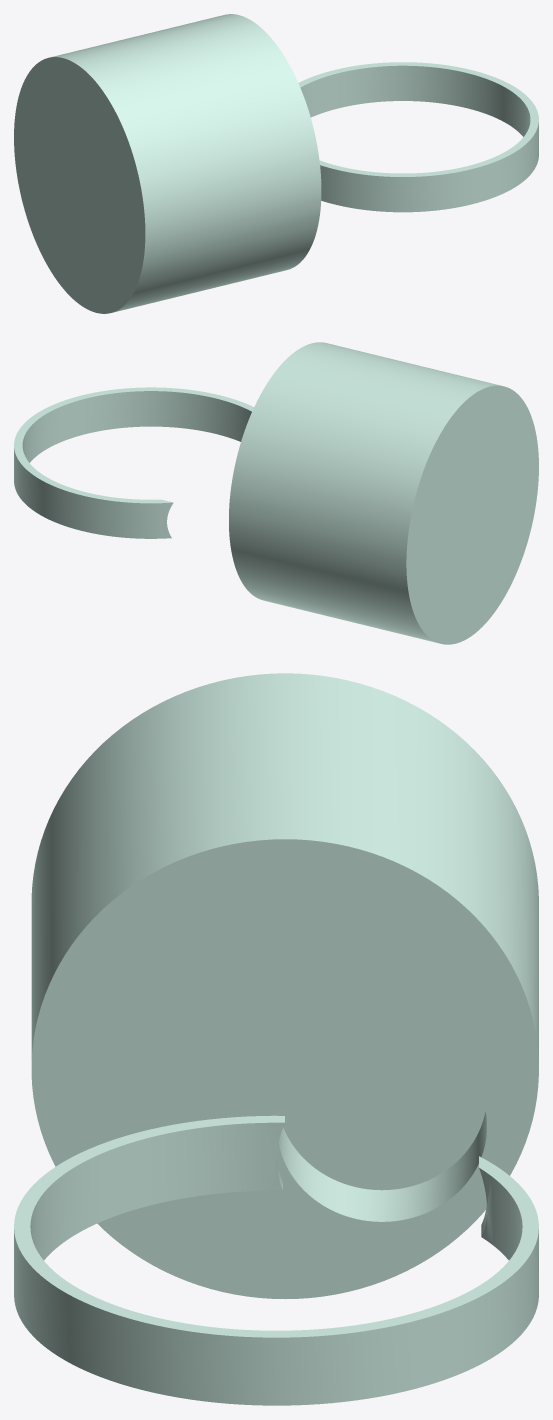
3 views of the same model, one above another, from view 1: azimuth 30°, elevation 25°; view 2: azimuth 150°, elevation 25°; view 3: azimuth 270°, elevation 25° (orthographic). The views are drawn at different scales.
Visible parts, largest first — view 1: Renderer Node; view 2: Renderer Node; view 3: Renderer Node.
Part boxes in pixels (box(x1,y1,x2,y2)): Renderer Node: box(14, 14, 538, 313); Renderer Node: box(14, 342, 538, 644); Renderer Node: box(14, 673, 538, 1405).
Size of the model in its own units: 1.32 by 0.6868 by 0.7105.
